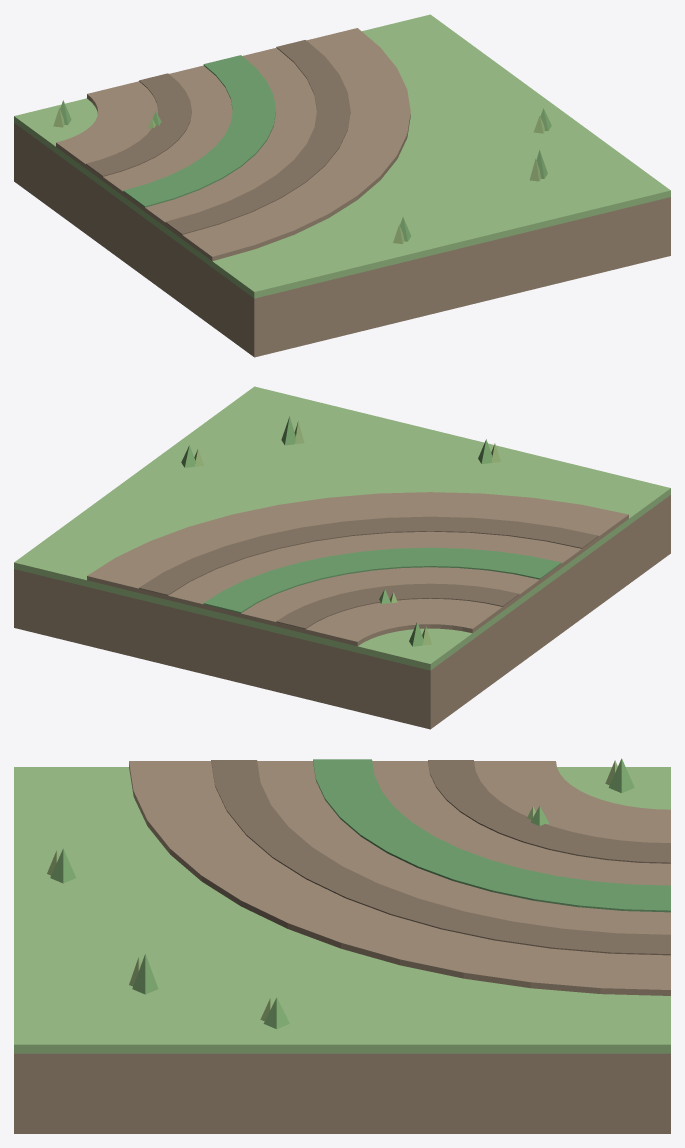
The model's file is ruas__terra_curva.glb.
The picture shows the model from 3 angles, top to bottom: view 1: azimuth 30°, elevation 25°; view 2: azimuth 150°, elevation 25°; view 3: azimuth 270°, elevation 25°; orthographic projection. The views are drawn at different scales.
Visible parts, largest first — view 1: ruas__terra_curva; view 2: ruas__terra_curva; view 3: ruas__terra_curva.
Part boxes in pixels (x1,y1,x2,y2): ruas__terra_curva: (14, 14, 670, 357); ruas__terra_curva: (14, 386, 670, 729); ruas__terra_curva: (14, 758, 670, 1133).
Size of the model in its own units: 2 by 0.42 by 2.
